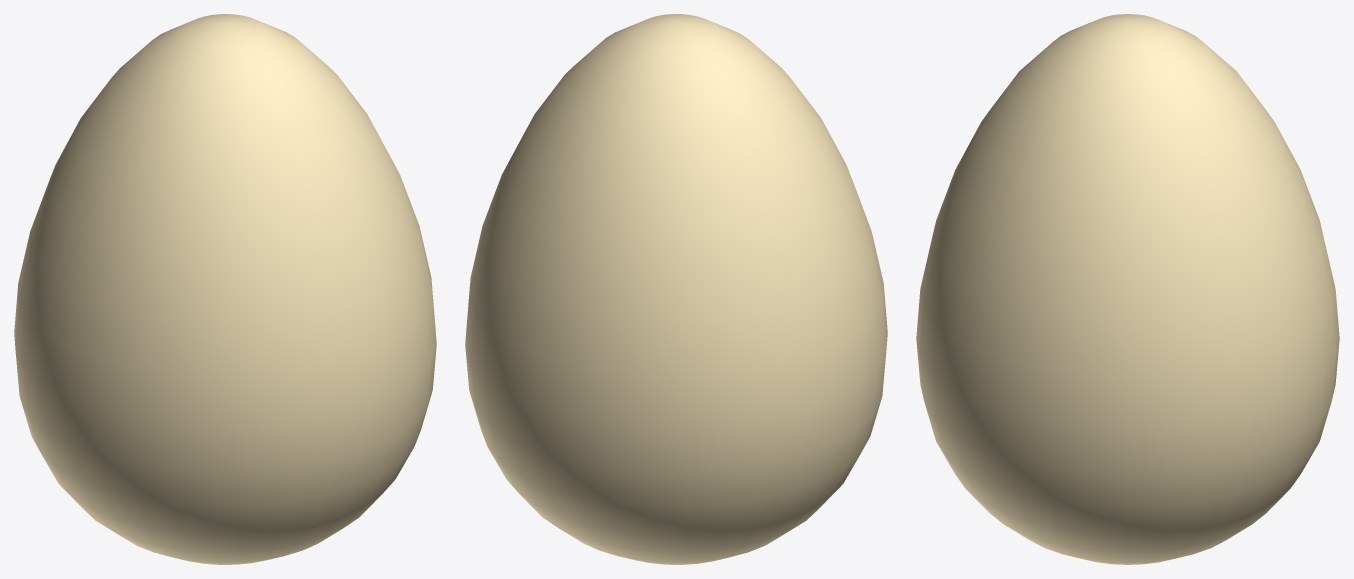
The model's file is egg.fbx.
3 renders of one model, left to right at view 1: azimuth 30°, elevation 25°; view 2: azimuth 150°, elevation 25°; view 3: azimuth 270°, elevation 25°, orthographic.
Parts seen in each view (by area): view 1: Sphere; view 2: Sphere; view 3: Sphere.
Boxes of the visible parts, x1,y1,x2,y2 form: Sphere: [14, 14, 436, 564]; Sphere: [465, 14, 887, 564]; Sphere: [916, 14, 1339, 564].
Size of the model in its own units: 200 by 272 by 200.
